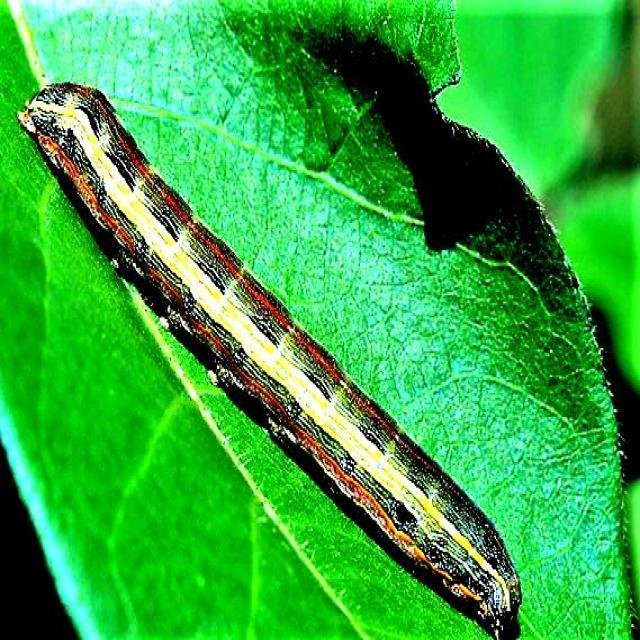armyworm: (16, 77, 523, 637)
